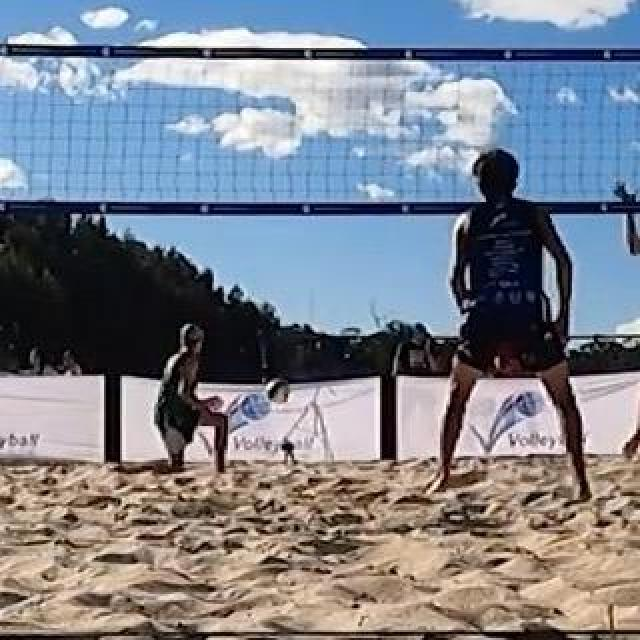volleyball: (266, 377, 290, 401)
